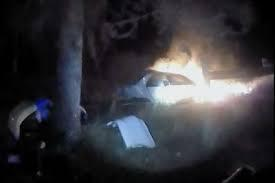fire: (122, 33, 259, 109)
